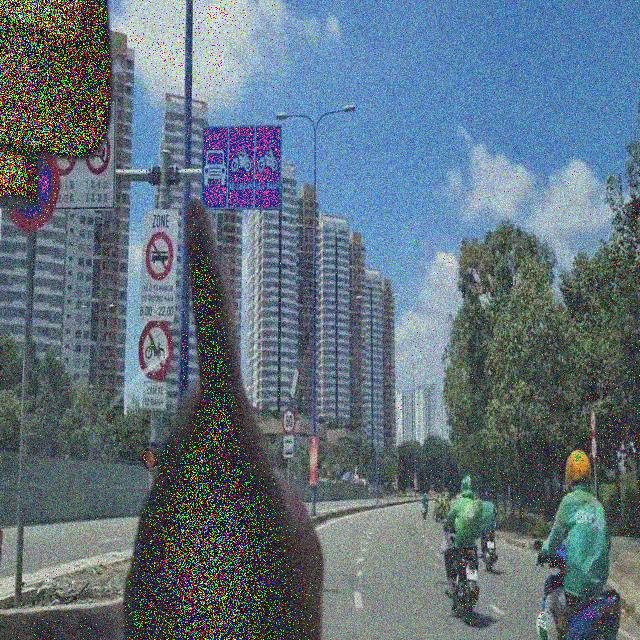Biển phụ: (139, 375, 168, 410), (282, 432, 292, 459)
Cấm các phương tiện hoạt động trong khung giờ cố định: (33, 93, 112, 215), (131, 197, 180, 322)
Cấm xe máy: (136, 317, 178, 375)
Giới hạn tốc độ: 80Km/h: (279, 405, 297, 434)
Làn đường cho từng xe: (198, 116, 284, 213)
